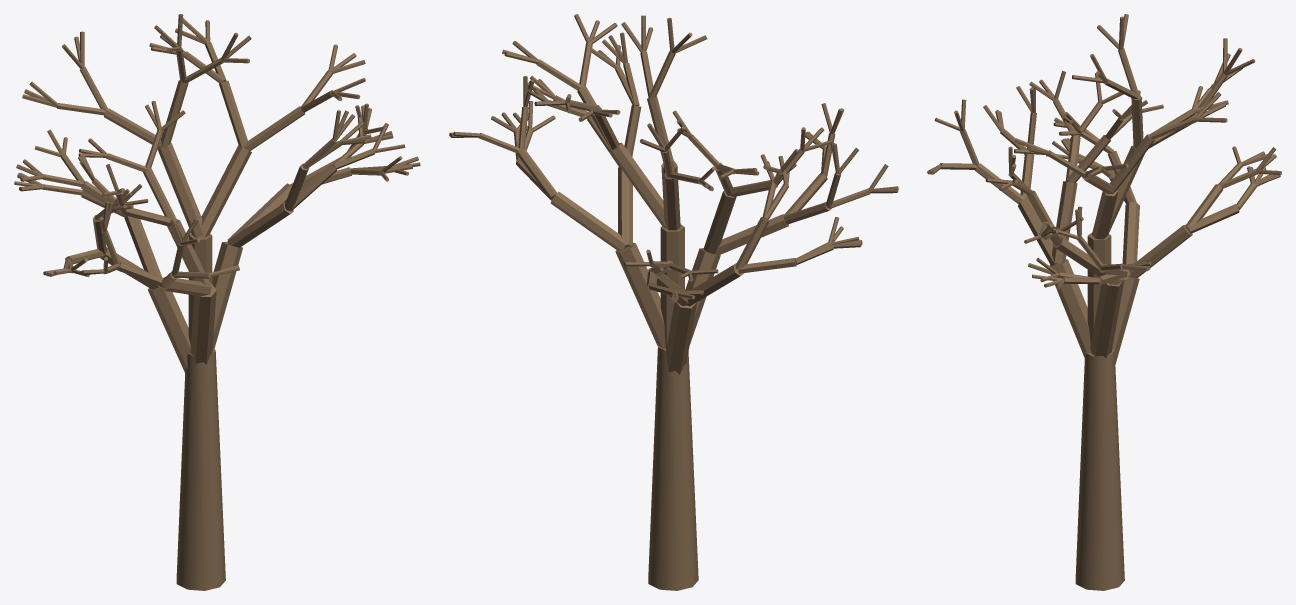
File: arbre_desert_2.glb
3 views of the same model, side by side, from view 1: azimuth 30°, elevation 25°; view 2: azimuth 150°, elevation 25°; view 3: azimuth 270°, elevation 25° (orthographic). The views are drawn at different scales.
Visible parts, largest first — view 1: branches_bois_sec.004, tronc.012; view 2: branches_bois_sec.004, tronc.012; view 3: branches_bois_sec.004, tronc.012.
Part boxes in pixels (box(x1,y1,x2,y2)): branches_bois_sec.004: box(14, 14, 420, 372); tronc.012: box(176, 349, 225, 590); branches_bois_sec.004: box(449, 14, 898, 374); tronc.012: box(648, 345, 698, 590); branches_bois_sec.004: box(927, 14, 1281, 364); tronc.012: box(1075, 350, 1124, 590).
Size of the model in its own units: 2.51 by 3.65 by 2.1.
